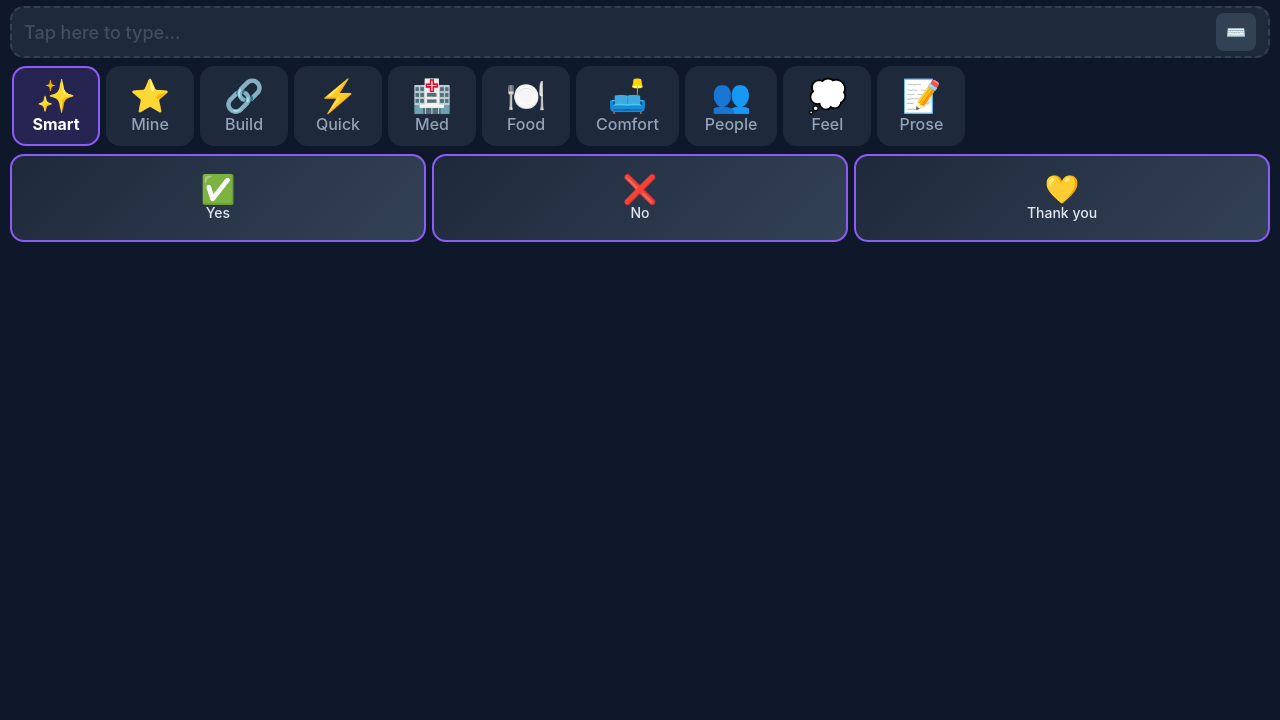
Scenario: TalkScreen integration › switches categories when a category tab is clicked
The width and height of the screenshot is (1280, 720).
What coordinates should you click on to do the following:
click the text "Quick"
I would click on:
 (338, 124)
Its box is [316,116,360,132].
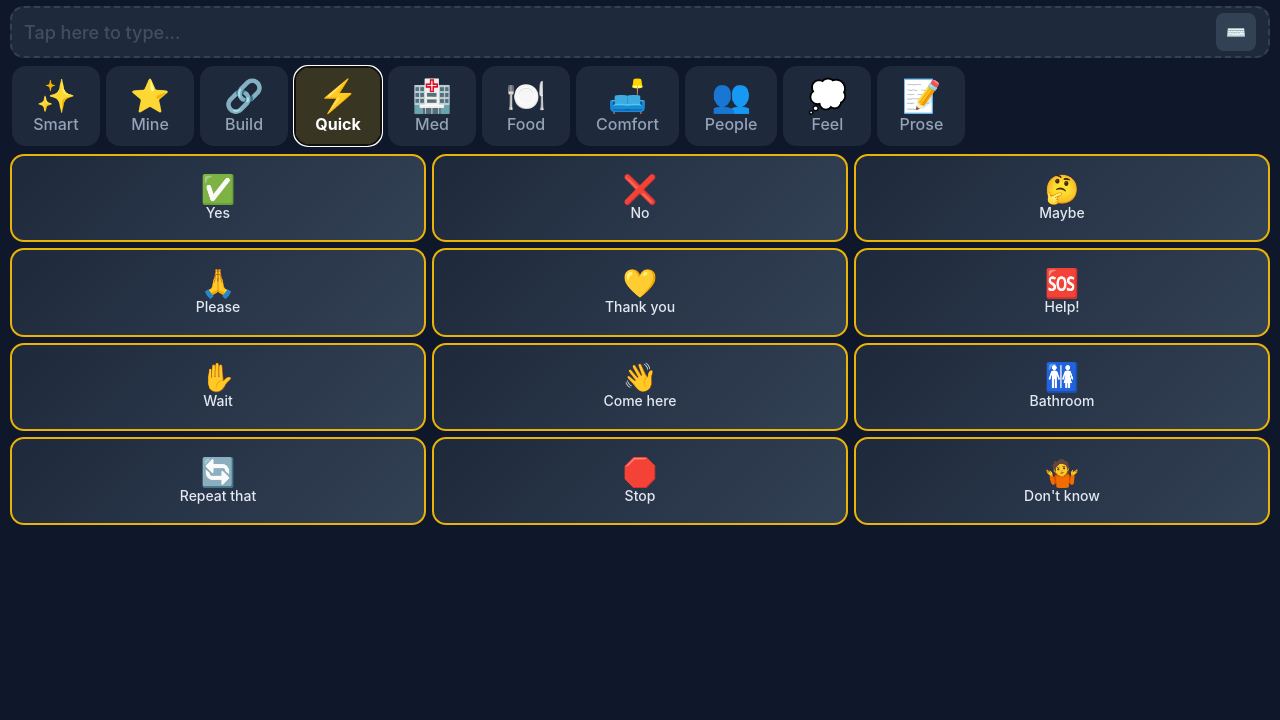
Check: the text "Please" is shown, box [193,299,243,316]
Check: the text "Help!" is shown, box [1042,299,1083,316]
Check: the text "Bathroom" is shown, box [1027,393,1097,410]
